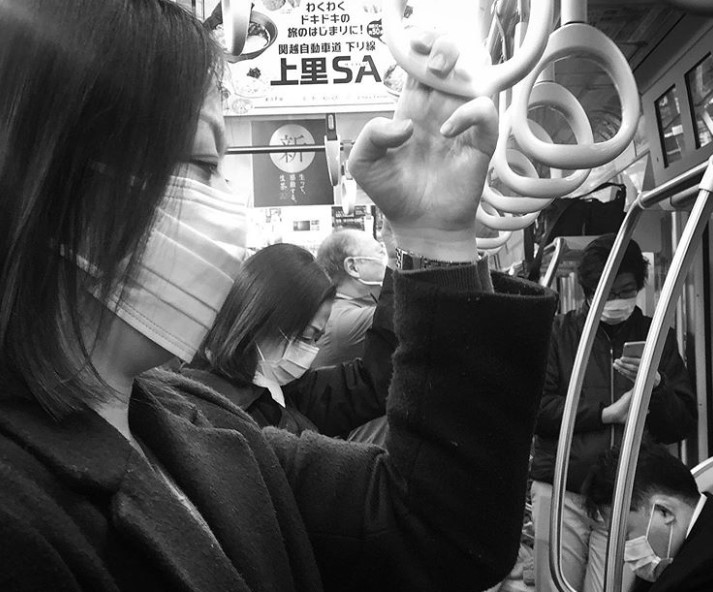face_with_mask: (6, 6, 249, 380), (243, 242, 338, 400), (593, 437, 693, 577), (581, 235, 645, 324), (319, 230, 386, 295)
